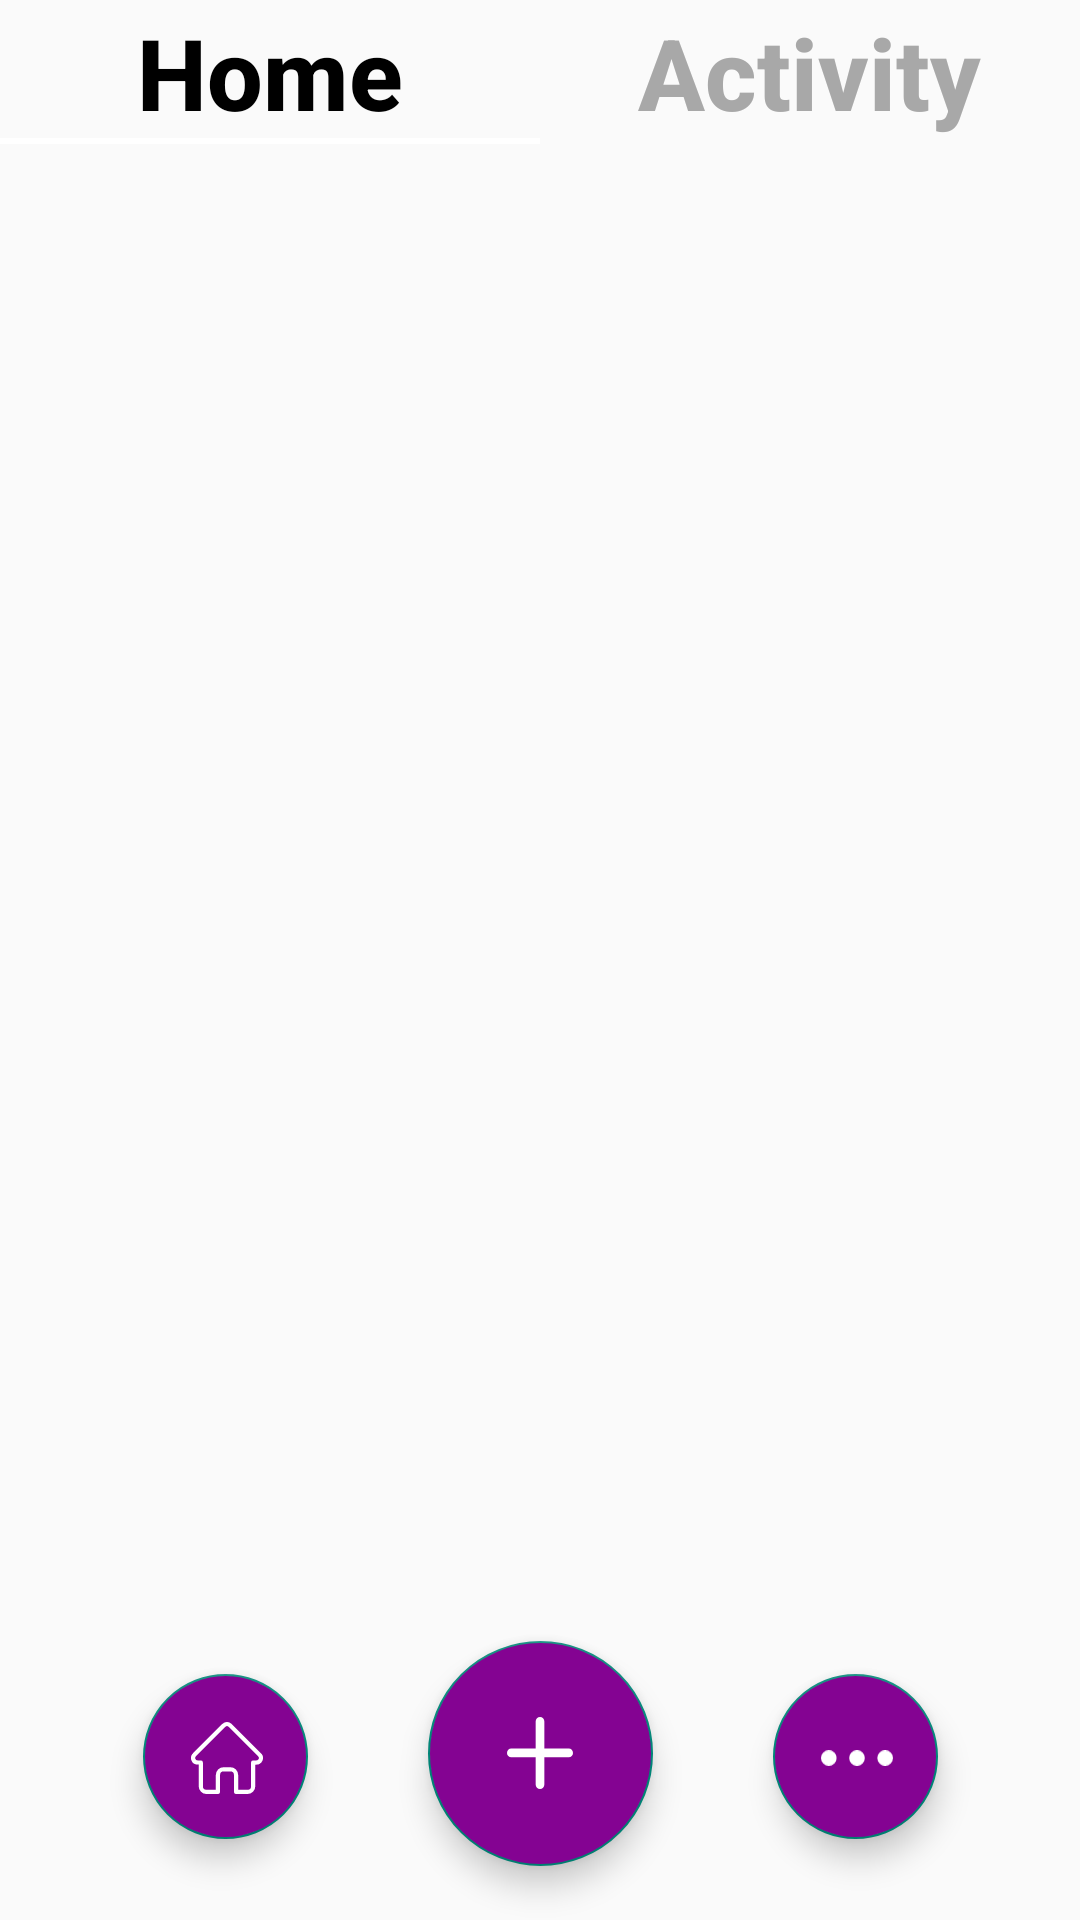

Icons on this 1080 x 1920 Android screen, each with its box as (x1, y1, x2, y2):
home: (143, 1674, 308, 1839)
more: (773, 1674, 938, 1839)
plus: (428, 1641, 653, 1866)
